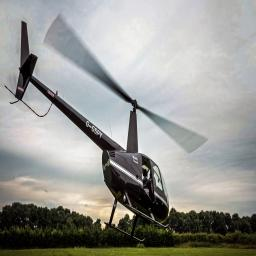helicopter: (5, 14, 209, 244)
